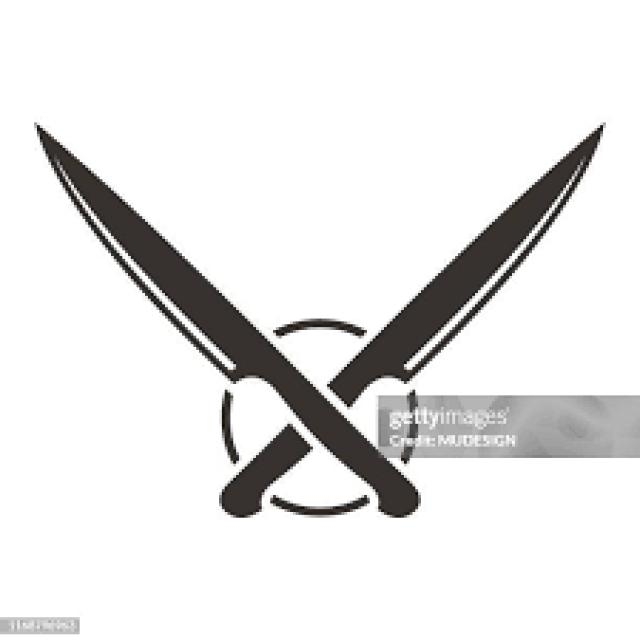Knife: (31, 120, 421, 518), (216, 120, 603, 518)
